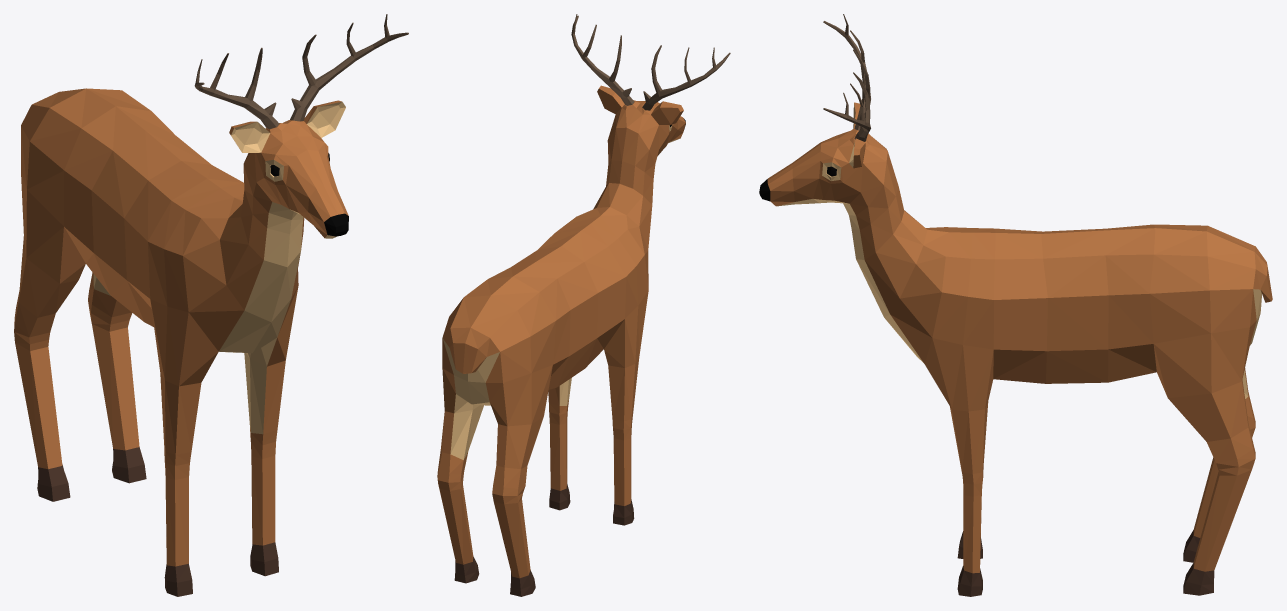
The model's file is Stag.fbx.
The picture shows the model from 3 angles, left to right: view 1: azimuth 30°, elevation 25°; view 2: azimuth 150°, elevation 25°; view 3: azimuth 270°, elevation 25°; orthographic projection. The views are drawn at different scales.
Parts seen in each view (by area): view 1: TriangulatedStag, LowPolyAntler; view 2: TriangulatedStag, LowPolyAntler; view 3: TriangulatedStag, LowPolyAntler.
Boxes of the visible parts, x1,y1,x2,y2 form: TriangulatedStag: (14, 88, 348, 596); LowPolyAntler: (194, 14, 408, 129); TriangulatedStag: (437, 85, 685, 596); LowPolyAntler: (571, 14, 730, 110); TriangulatedStag: (759, 102, 1272, 596); LowPolyAntler: (823, 14, 870, 141).
Size of the model in its own units: 62.77 by 173 by 155.
